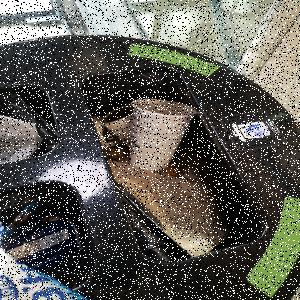Cup: (129, 99, 201, 173)
